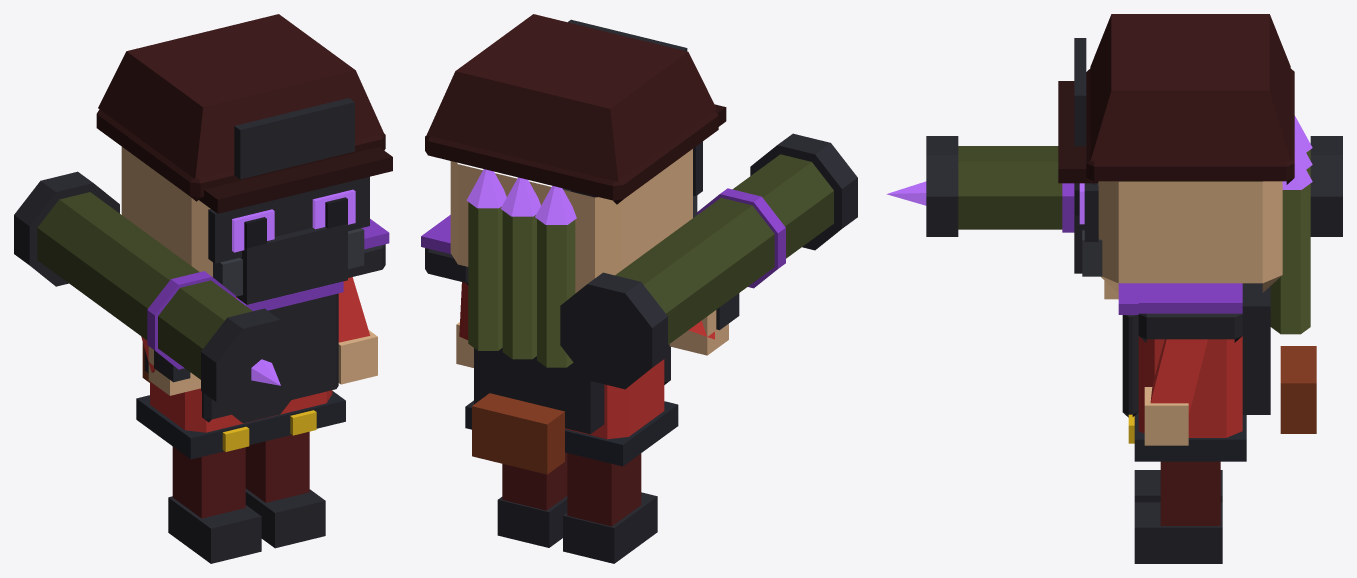
File: rocket_soldier_rare.glb
The picture shows the model from 3 angles, left to right: view 1: azimuth 30°, elevation 25°; view 2: azimuth 150°, elevation 25°; view 3: azimuth 270°, elevation 25°; orthographic projection. The views are drawn at different scales.
Visible parts, largest first — view 1: rocket_soldier_rare_mesh; view 2: rocket_soldier_rare_mesh; view 3: rocket_soldier_rare_mesh.
Boxes of the visible parts, x1,y1,x2,y2 form: rocket_soldier_rare_mesh: (14, 14, 392, 563); rocket_soldier_rare_mesh: (421, 14, 857, 563); rocket_soldier_rare_mesh: (886, 14, 1342, 563).
Bounding box in the file's own units: 0.8005 × 1.3 × 1.11.
Materials: 2 (2 with a texture image).
